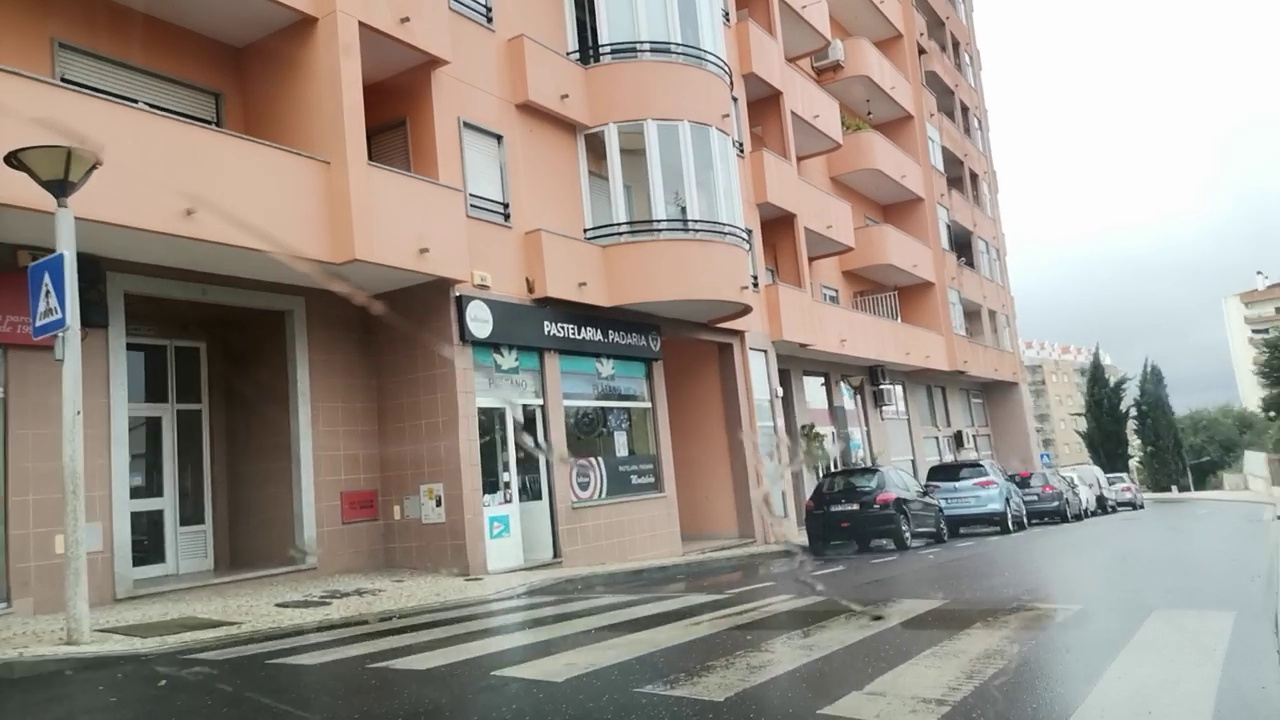Stairs: (183, 586, 1280, 720)
